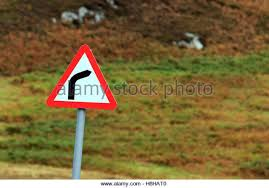Bend_to_right: (43, 43, 119, 112)
